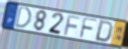2: (48, 12, 65, 36)
8: (33, 10, 48, 33)
D: (94, 19, 115, 43), (14, 5, 33, 29)
F: (78, 17, 98, 40), (63, 14, 82, 37)
